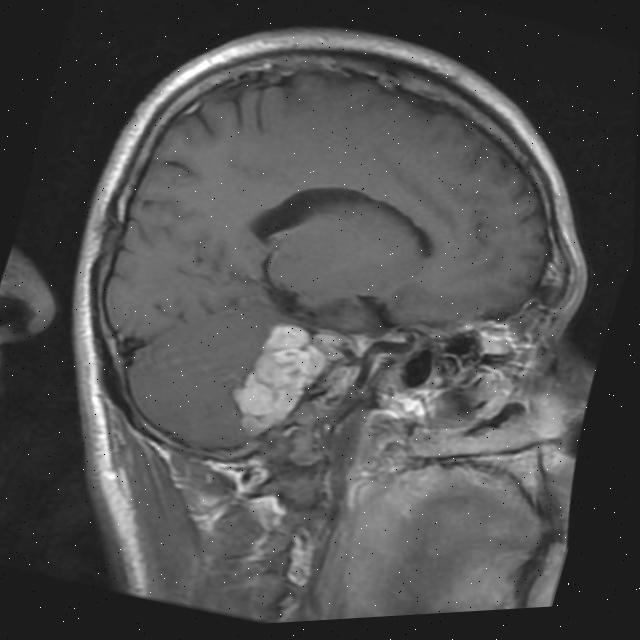Meningioma: (217, 309, 338, 455)
